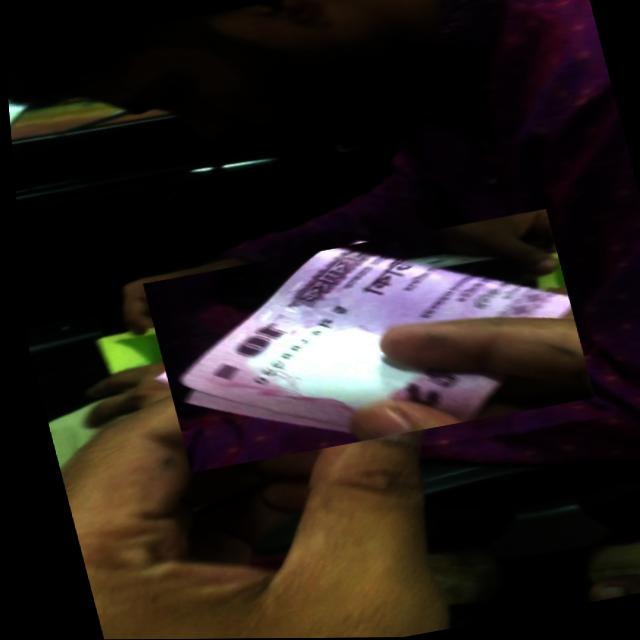Taka: (134, 209, 592, 472)
